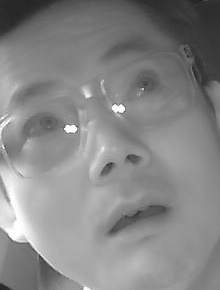eye: (124, 67, 166, 99), (20, 111, 64, 140)
glass: (1, 89, 90, 179), (101, 51, 192, 127)
mouth: (101, 190, 181, 246)
